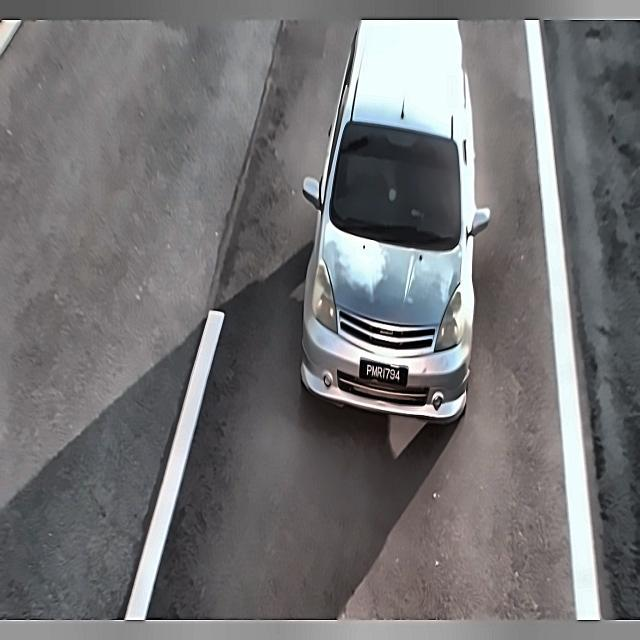car: (356, 351, 411, 394)
